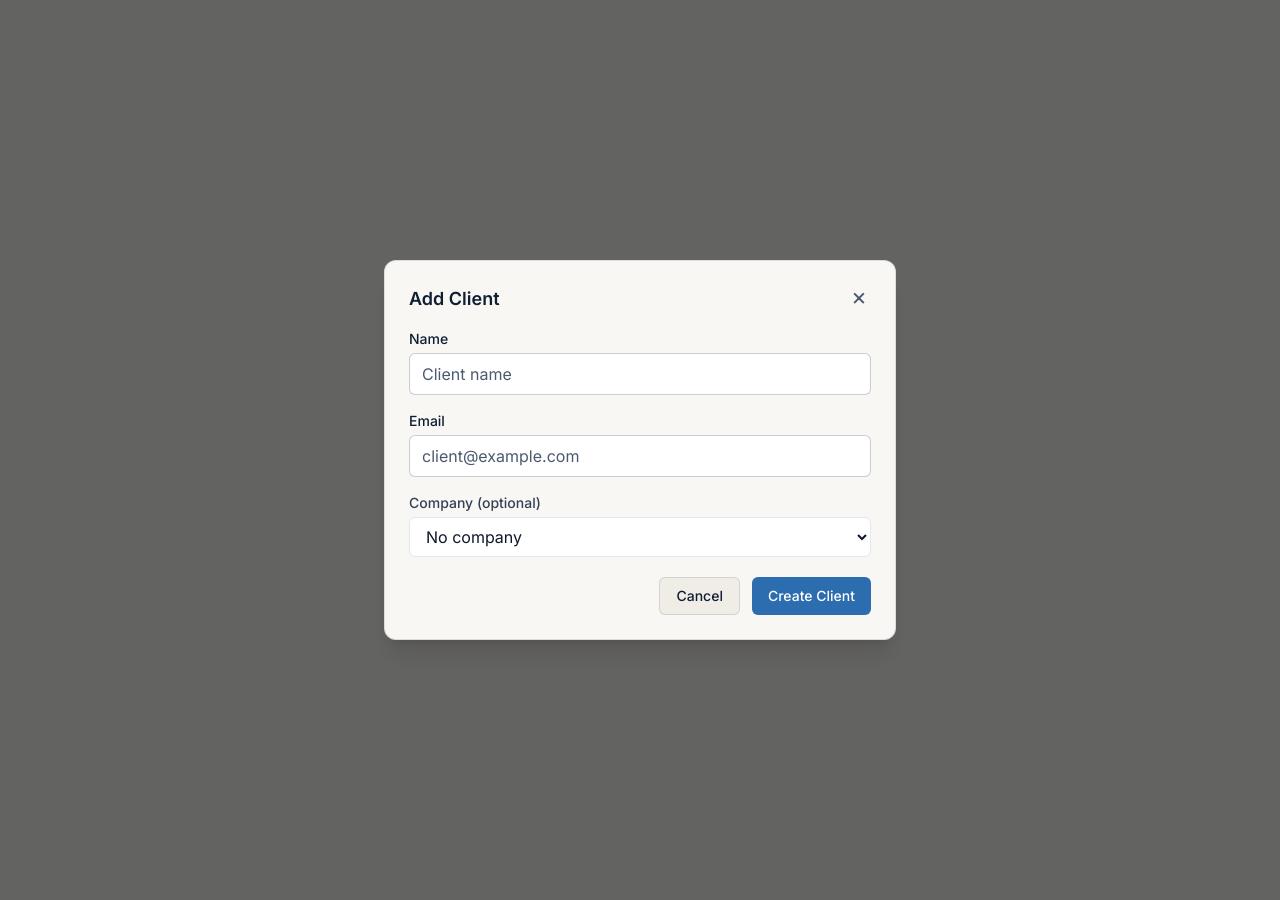
Test case: AddClientModal › shows a validation error when submitting without a name or email
The image size is (1280, 900).
Click the button "Create Client": (812, 596) [752, 577, 871, 615]
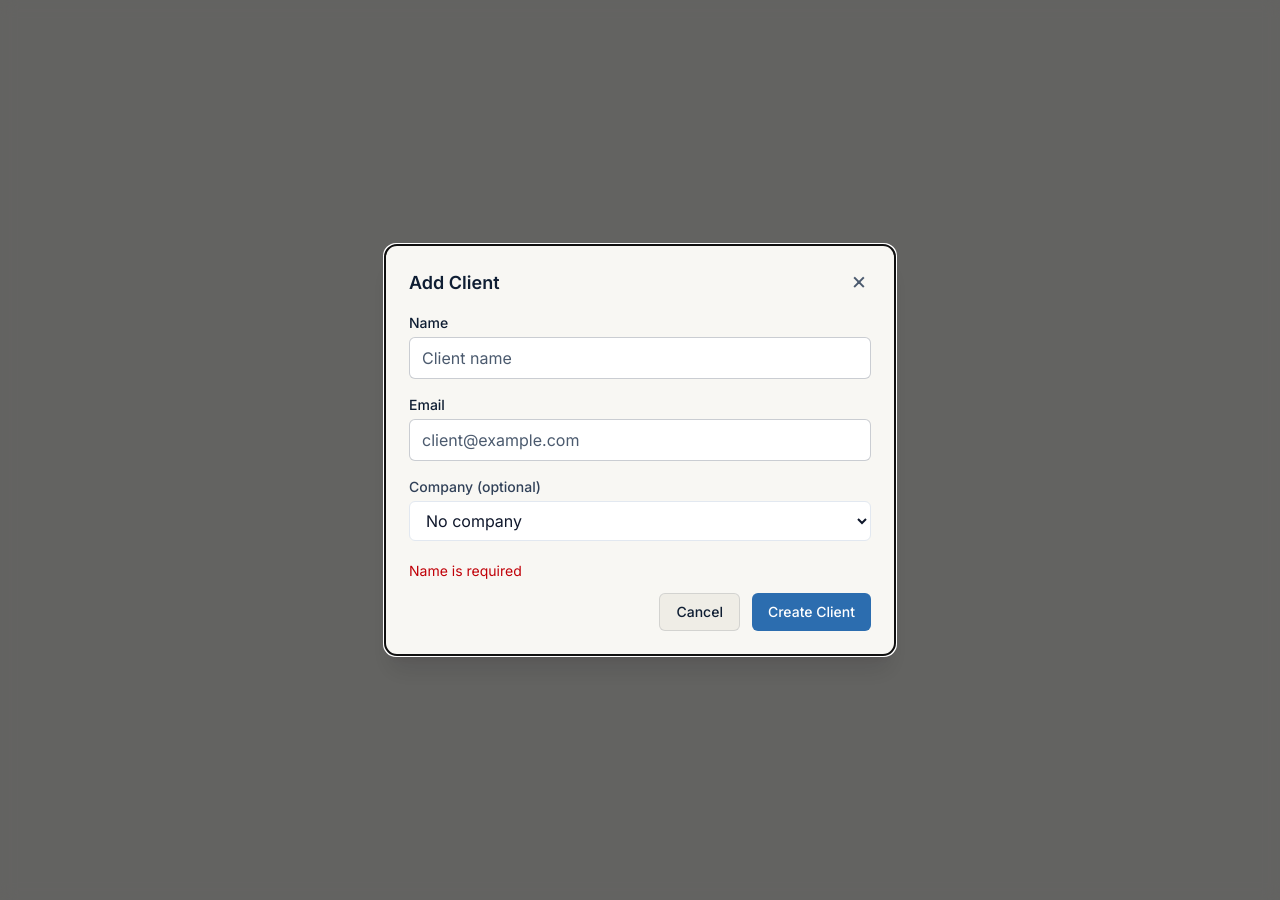
Now the message reads "Name is required", box [409, 562, 522, 579]
